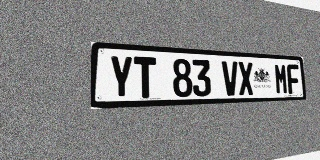3: (192, 59, 211, 97)
8: (172, 58, 193, 97)
F: (287, 64, 300, 94)
M: (274, 63, 288, 94)
T: (134, 56, 157, 98)
V: (222, 61, 239, 96)
X: (238, 62, 254, 95)
Y: (109, 55, 133, 99)
